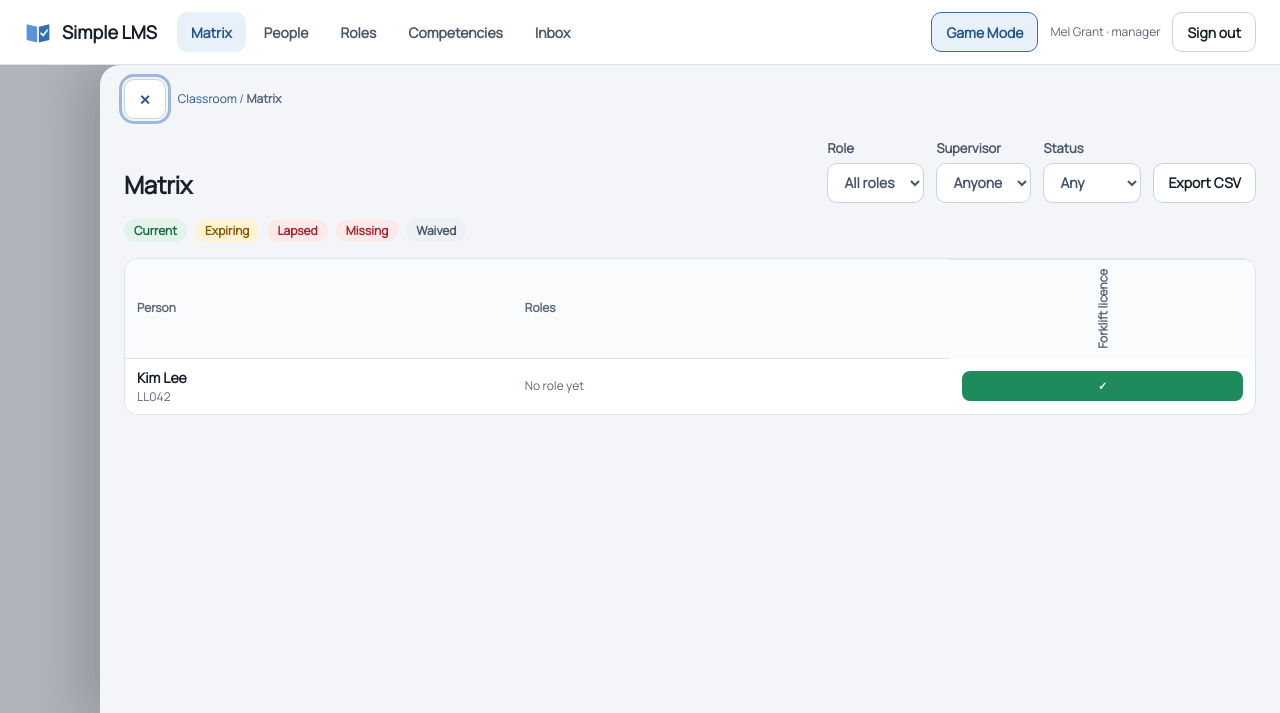
printing › prints a certificate for the completion that counts
The width and height of the screenshot is (1280, 713).
Click the button named "Kim Lee, Forklift licence".
click(1102, 386)  # box [962, 371, 1243, 401]
(page scrolled)
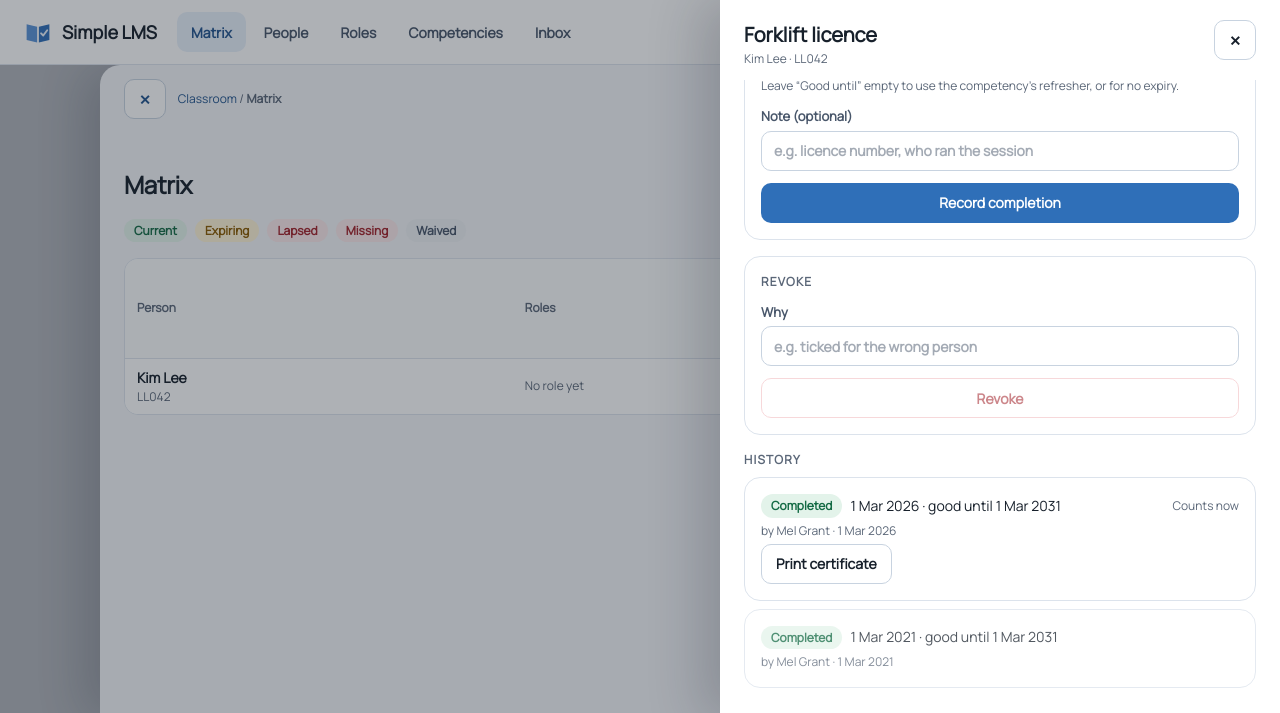
Result: the number of buttons "Print certificate" is 1
Click the button "Print certificate".
click(826, 564)  # box [761, 544, 892, 584]
(page scrolled)
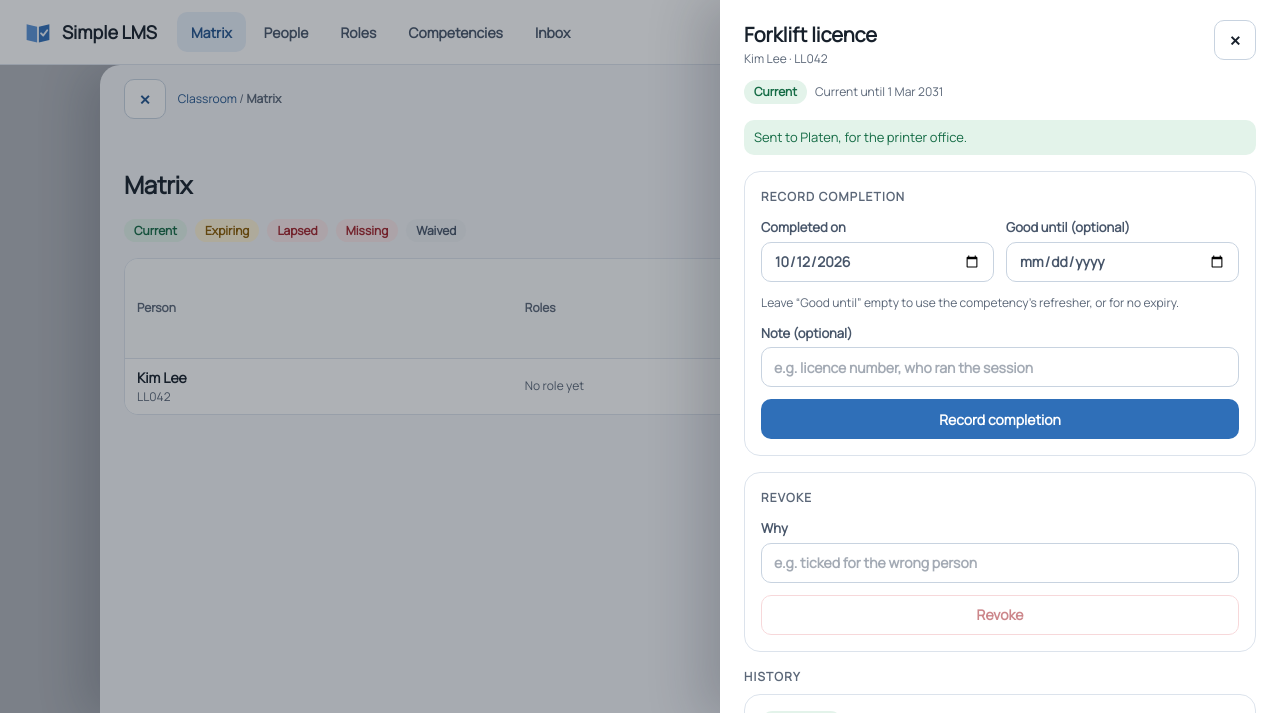
Result: the text "Sent to Platen, for the printer office." is shown at [744, 120, 1256, 155]
